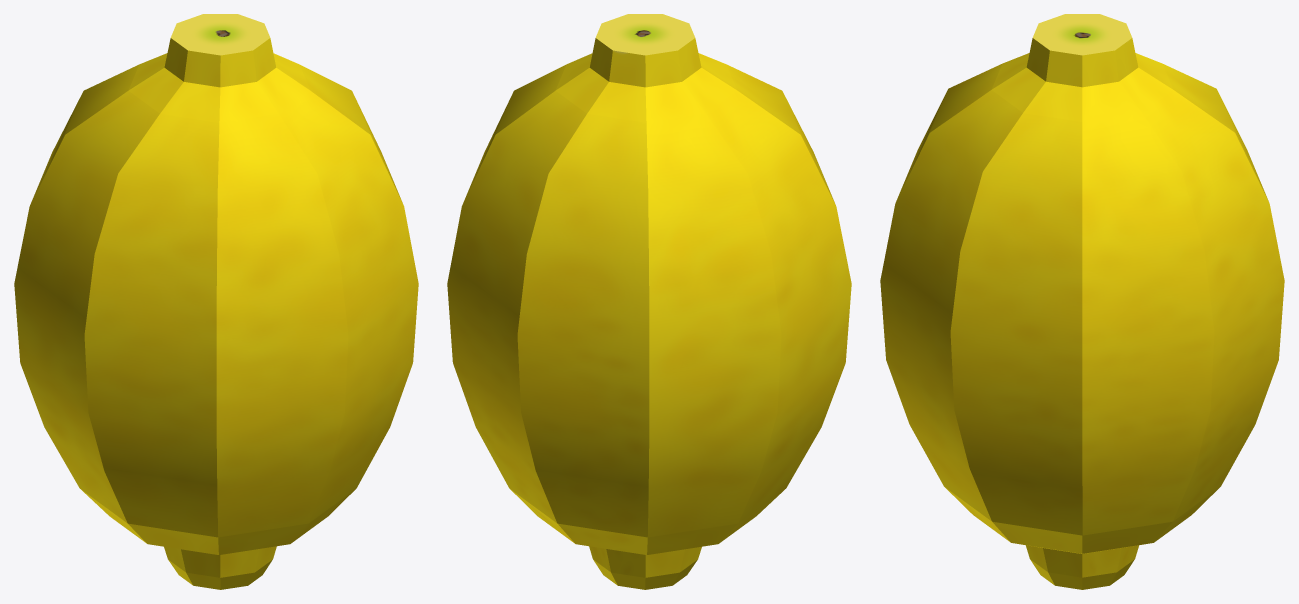
File: lemon.fbx
3 renders of one model, left to right at view 1: azimuth 30°, elevation 25°; view 2: azimuth 150°, elevation 25°; view 3: azimuth 270°, elevation 25°, orthographic.
Parts seen in each view (by area): view 1: lemon; view 2: lemon; view 3: lemon.
Boxes of the visible parts, box(x1,y1,x2,y2) form: lemon: box(14, 14, 418, 589); lemon: box(447, 14, 851, 589); lemon: box(880, 14, 1284, 589).
Bounding box in the file's own units: 6.05 × 9.02 × 6.15.
1 material, 1 textured.
